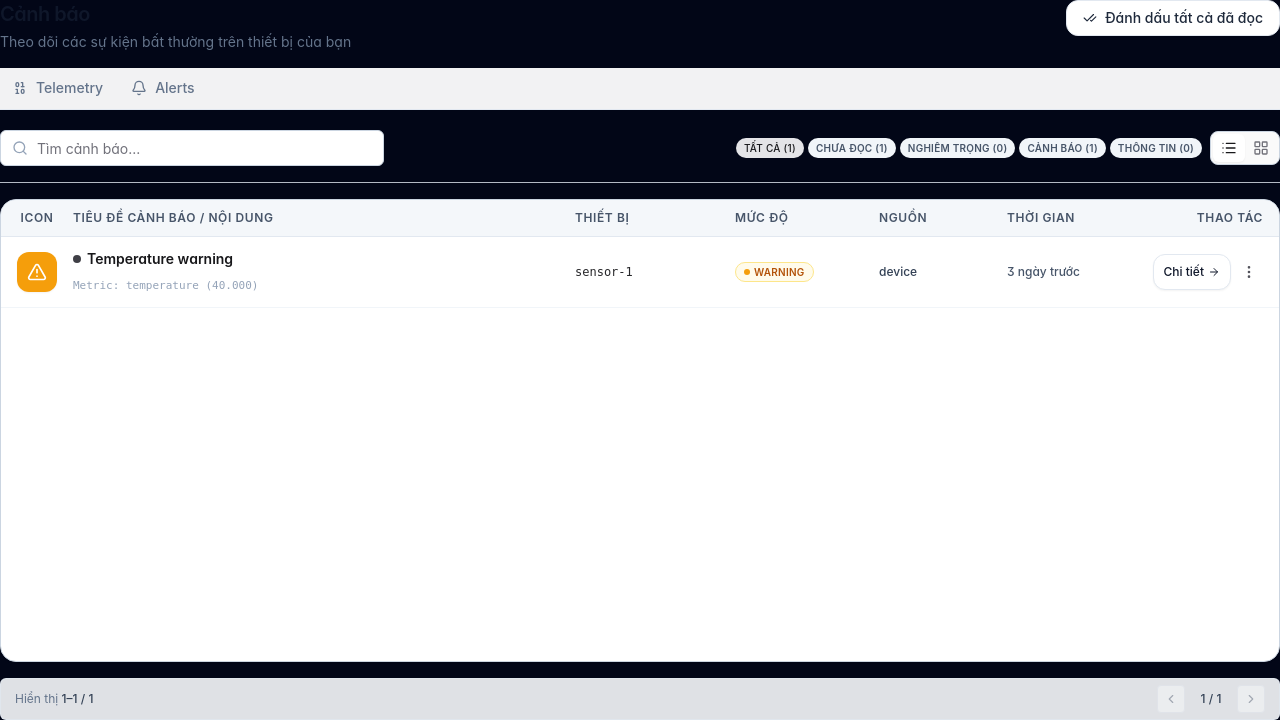
Test: Client alert action permissions › keeps alert details available and hides destructive actions for viewers
Expected: the text "Temperature warning" is shown, x1=87 y1=249 x2=233 y2=269
Click the button named "Thao tác cho {{title}}" at [1249, 272], box x1=1235 y1=258 x2=1263 y2=286
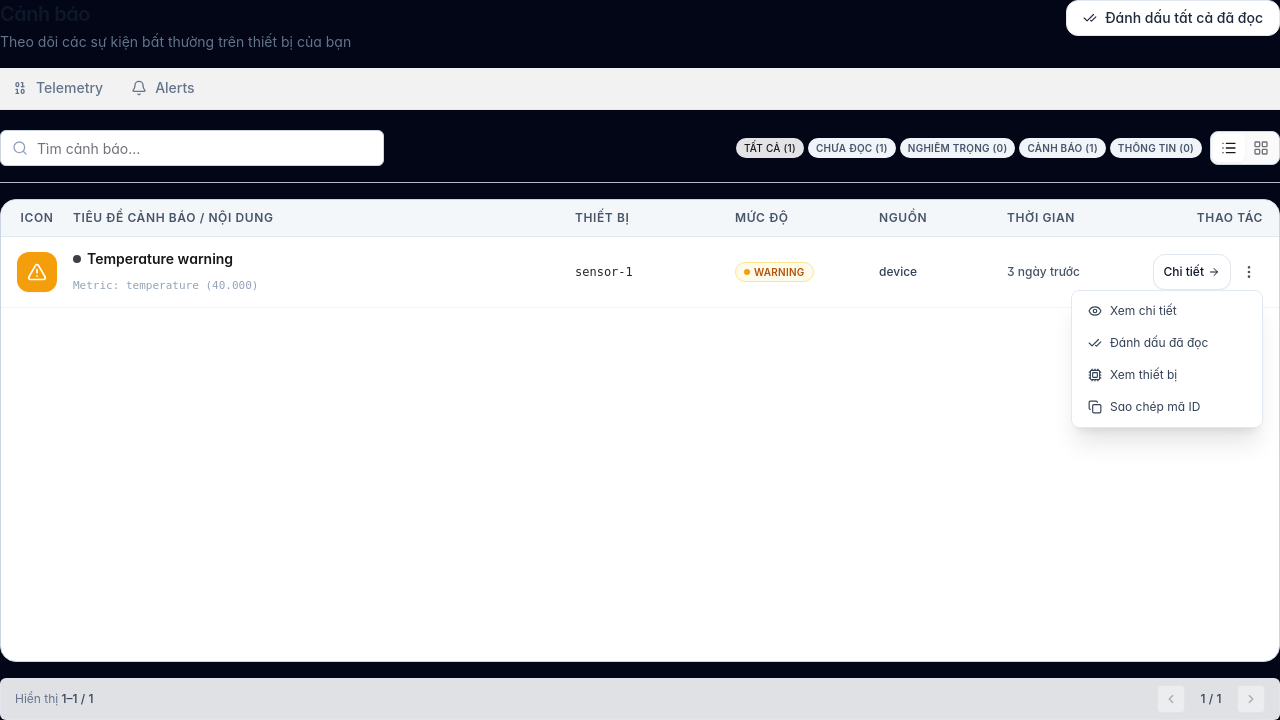
Click the menu item "Xem chi tiết" at [1167, 311], box x1=1076 y1=295 x2=1258 y2=327
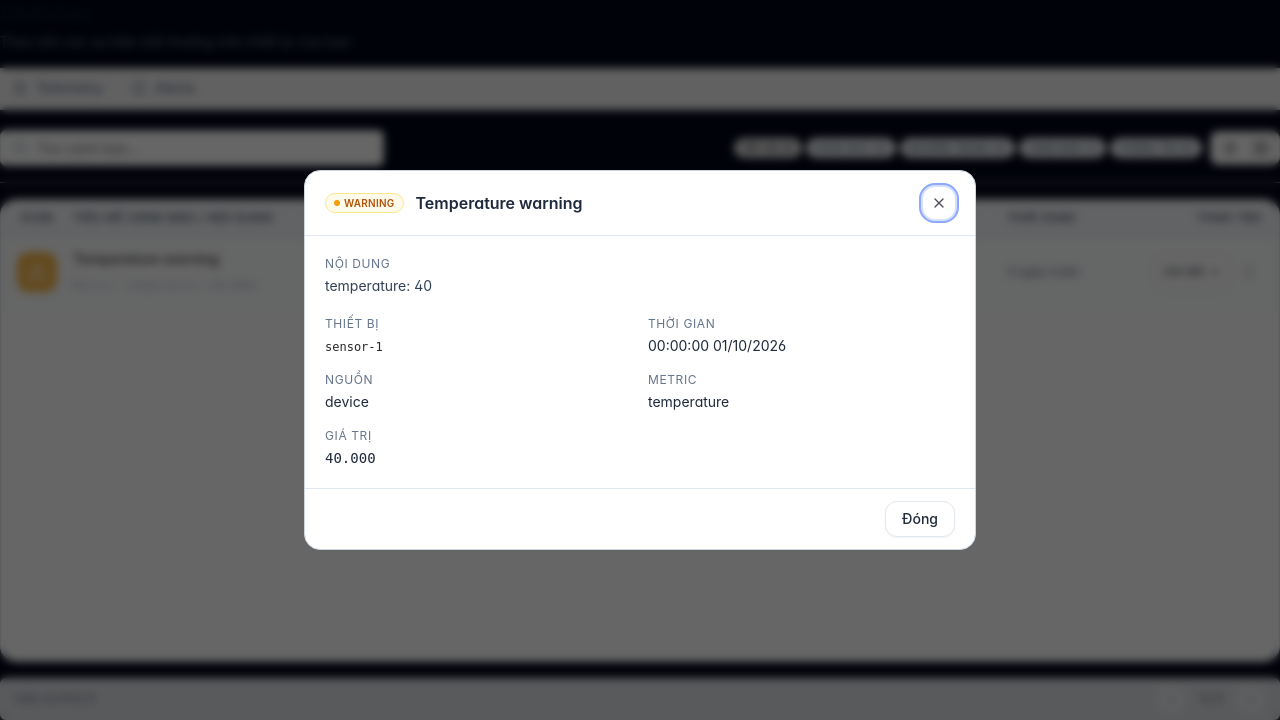
Expected: the dialog is shown, x1=304 y1=170 x2=976 y2=550
